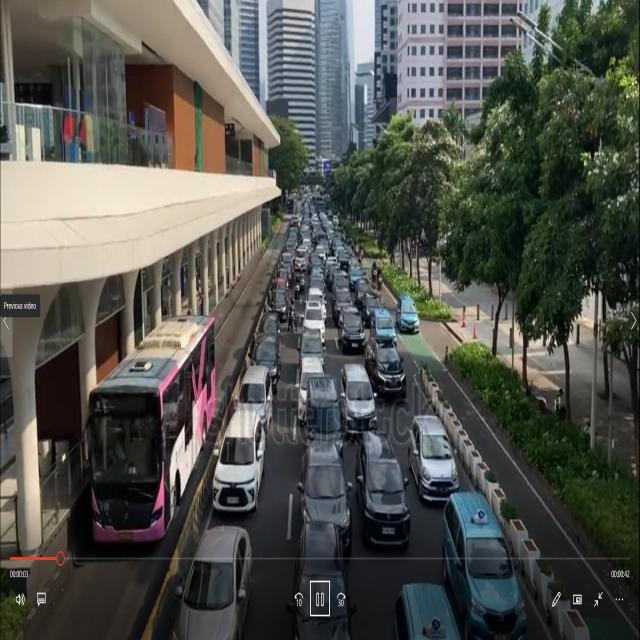Ambulance: (294, 240, 310, 281)
